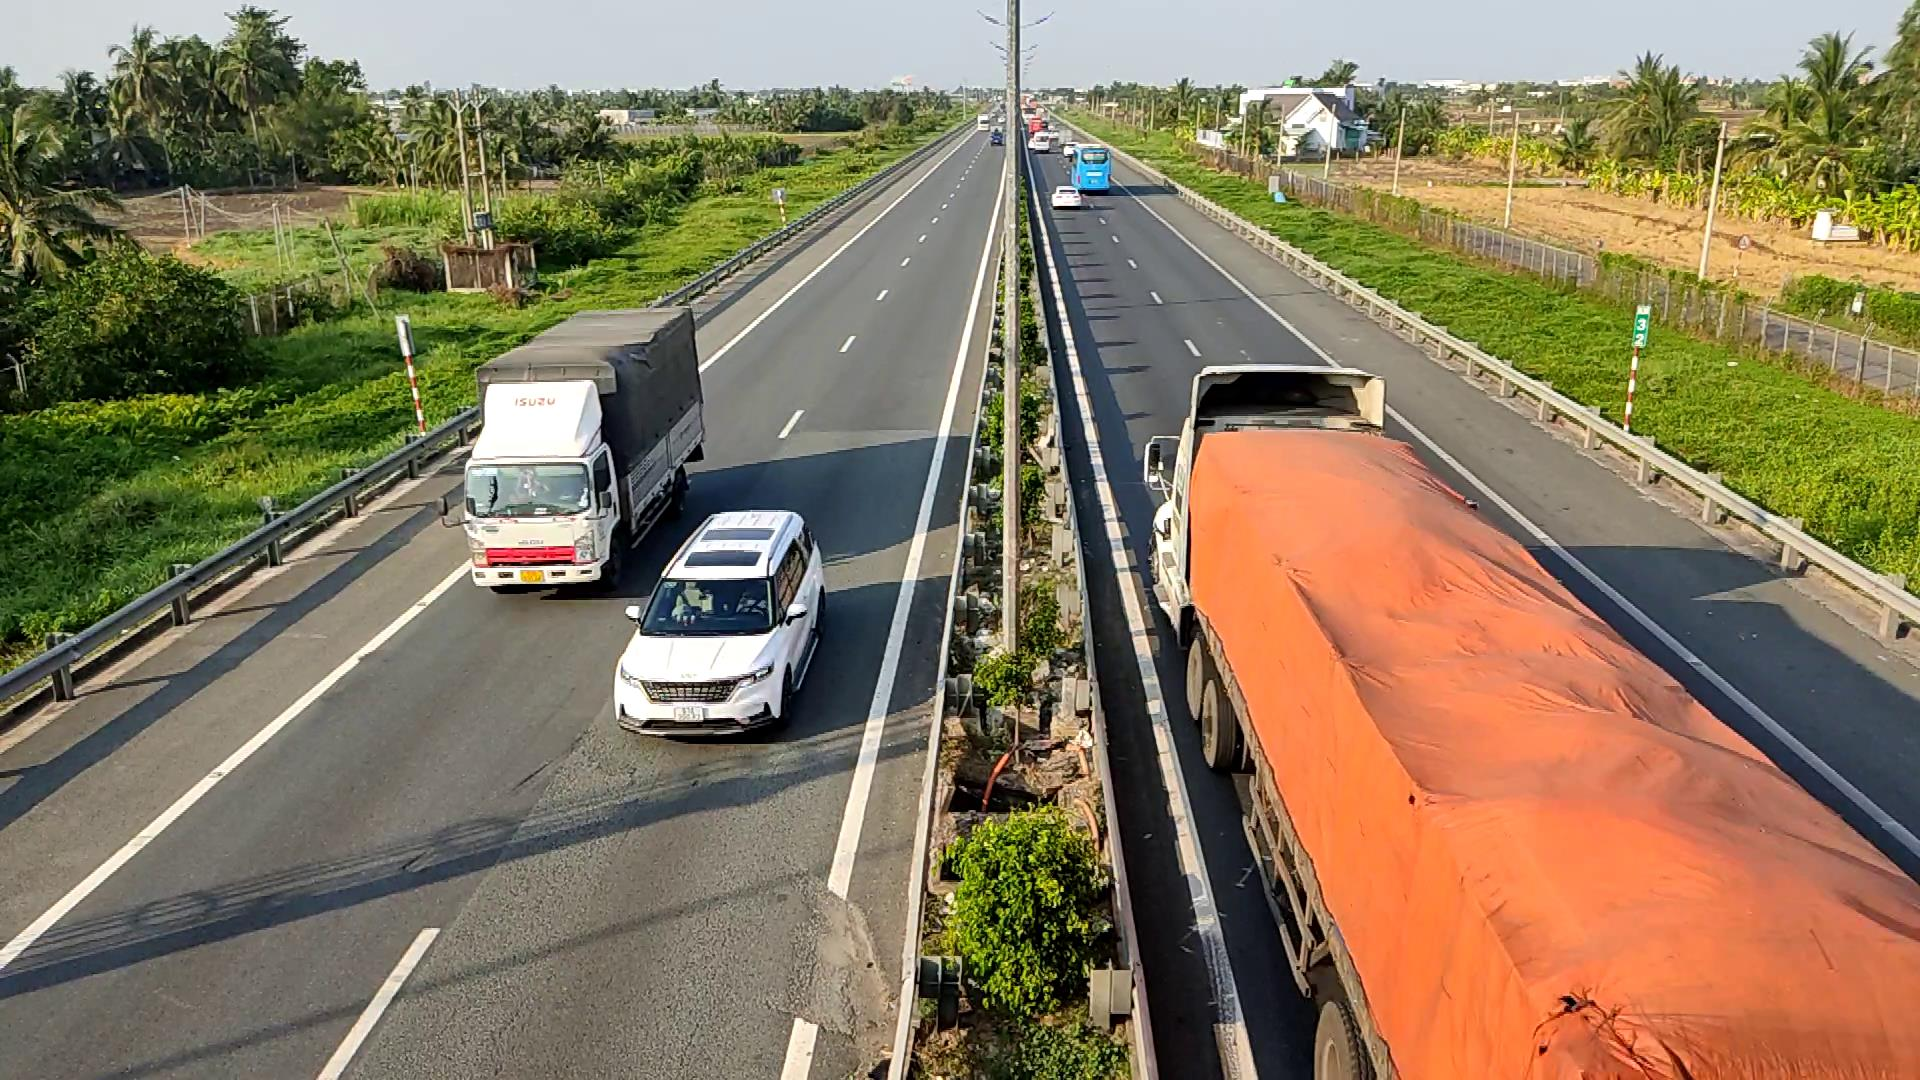car: (612, 508, 827, 737)
truck: (1141, 360, 1917, 1067), (460, 306, 707, 593)
